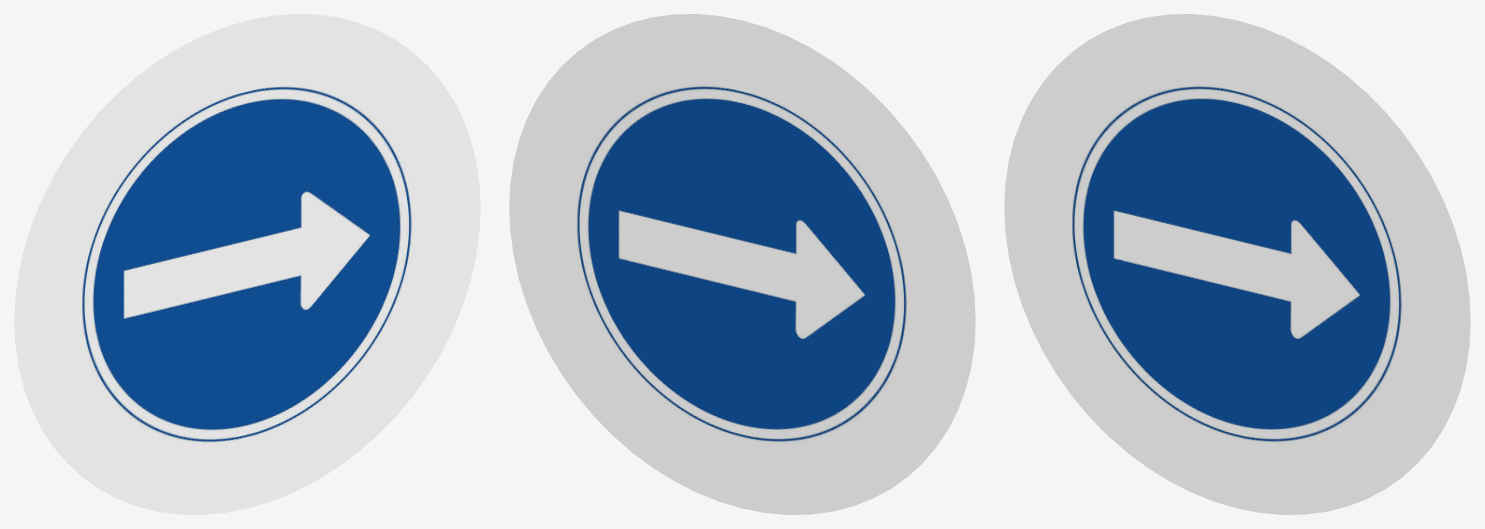
File: right_arrow.glb
3 renders of one model, left to right at view 1: azimuth 30°, elevation 25°; view 2: azimuth 150°, elevation 25°; view 3: azimuth 330°, elevation 25°, orthographic.
Size of the model in its own units: 1 by 1 by 0.
2 materials, 2 textured.
